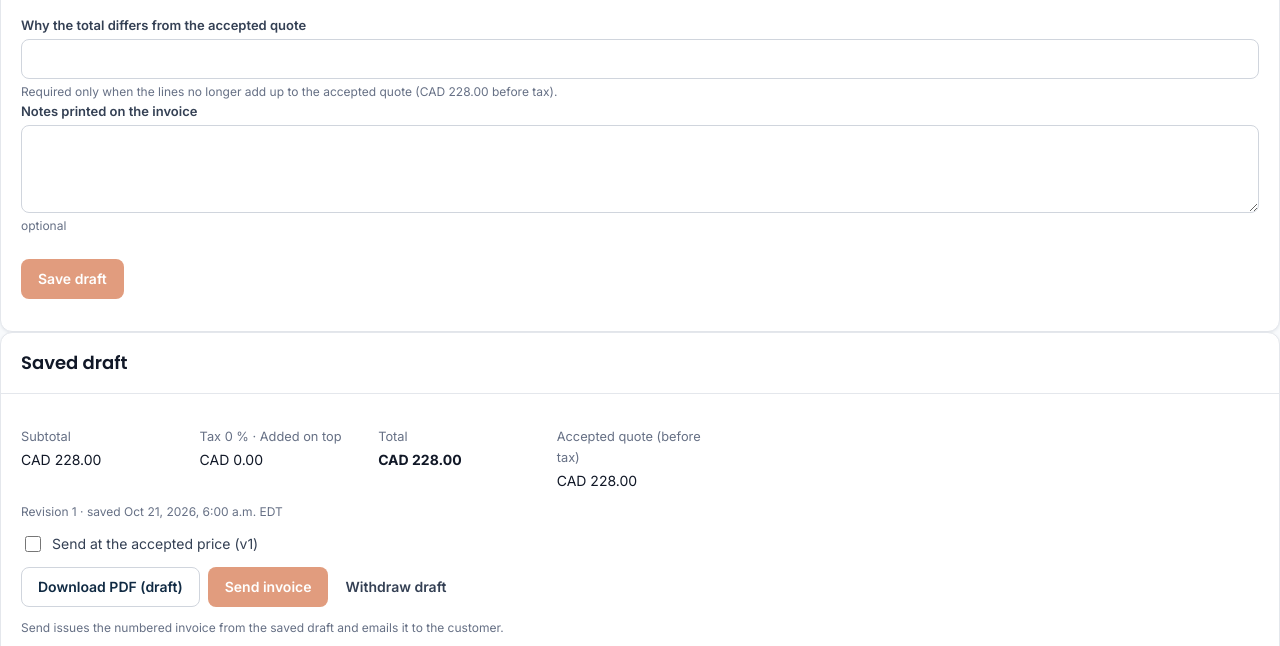
Test: Draft invoice: unsaved edits › withdraws a draft with a required reason
(page scrolled)
Click the button "Withdraw draft" at (396, 587), box [336, 567, 456, 607]
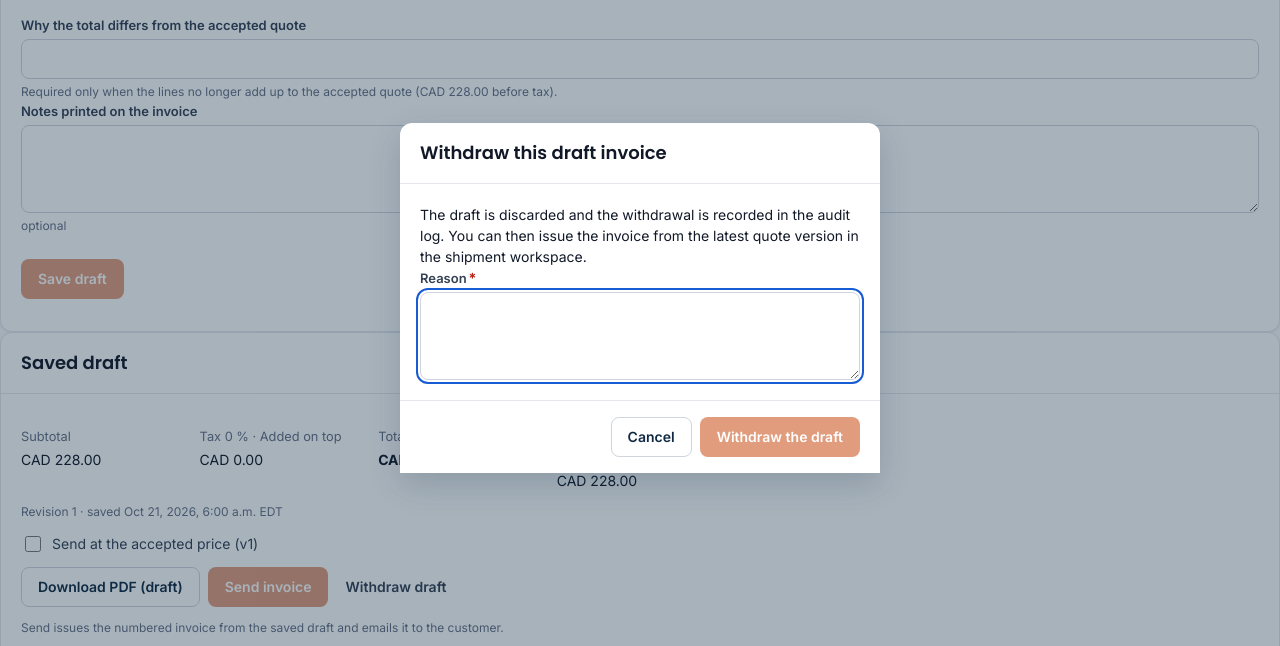
Now the button "Withdraw the draft" is disabled, box [700, 417, 860, 457]
Type "re-priced" into the text box labelled "Reason" at (640, 336), box [420, 292, 860, 380]
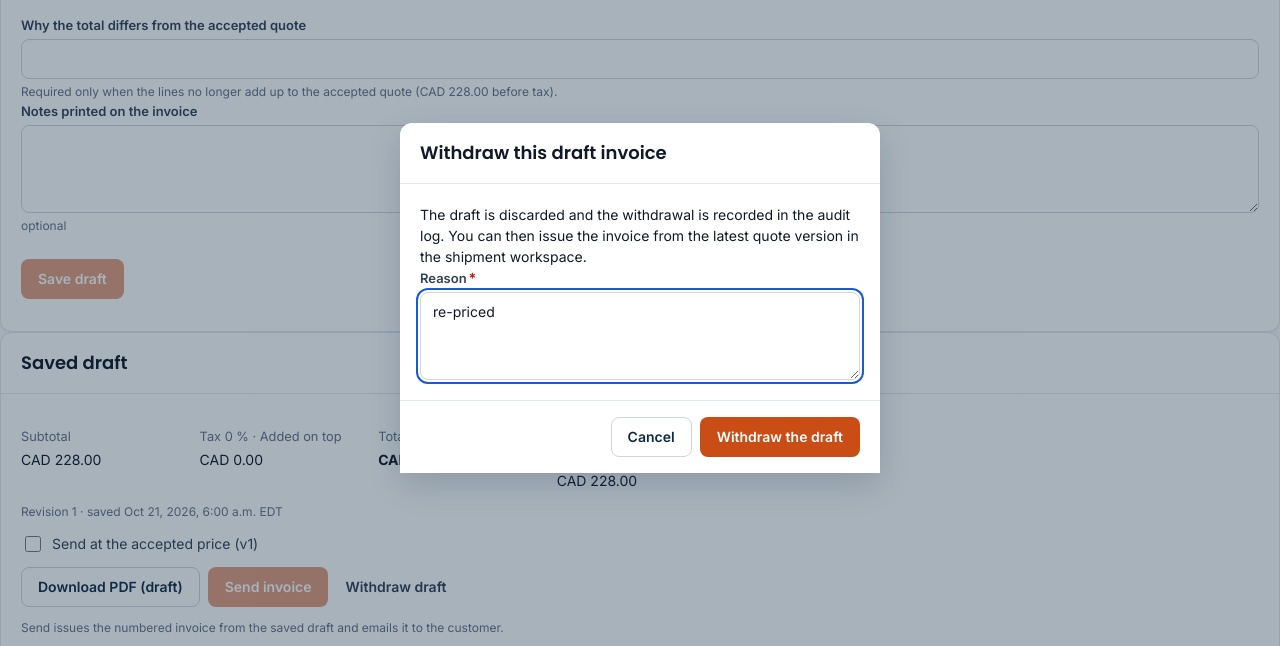
Click the button "Withdraw the draft" at (780, 437), box [700, 417, 860, 457]
(page scrolled)
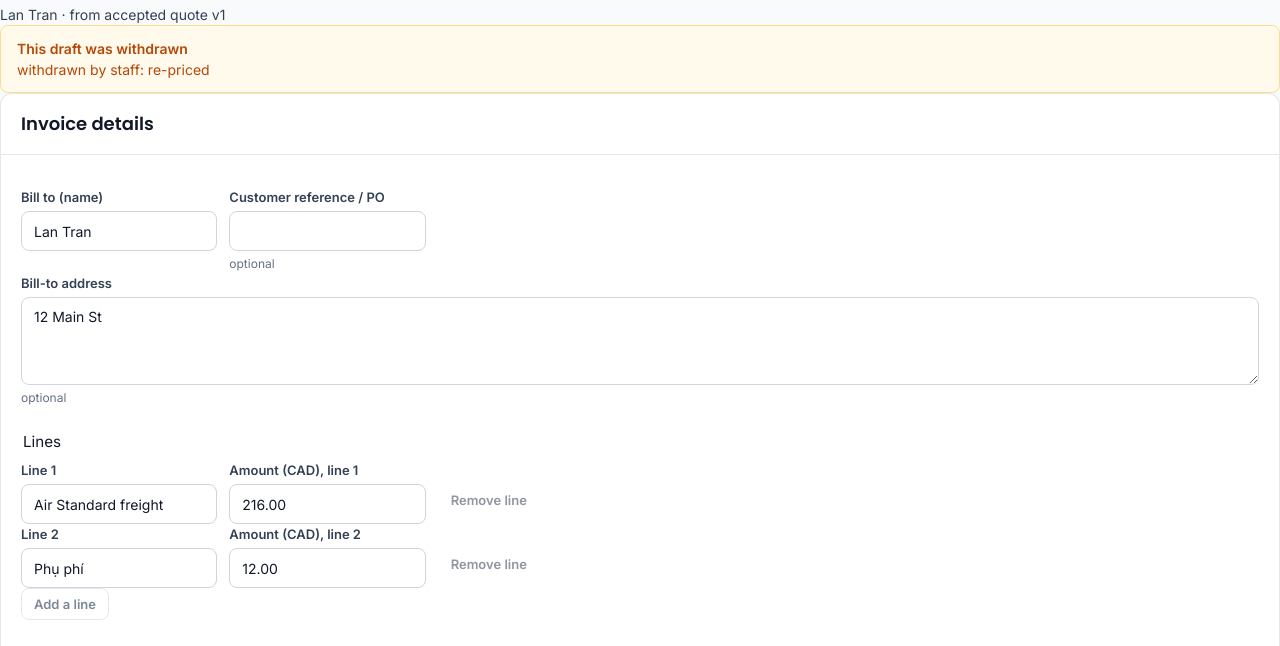
Now the text "This draft was withdrawn" is shown, box [17, 38, 210, 59]
